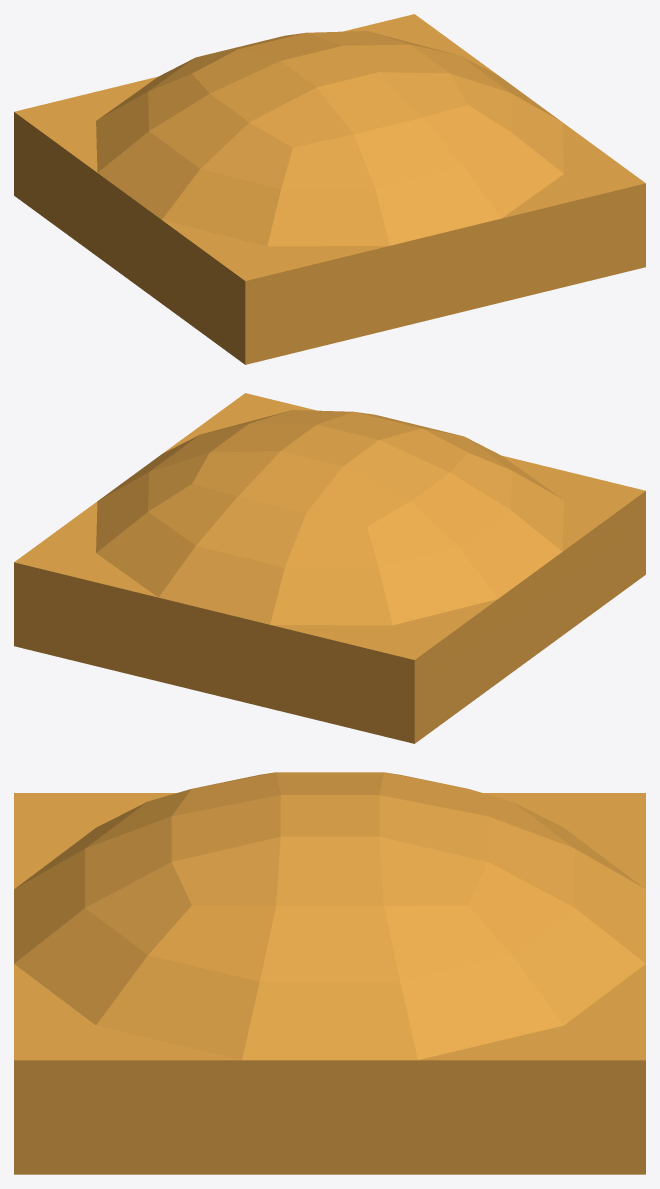
The model's file is tile-plain-hump.glb.
3 renders of one model, top to bottom at view 1: azimuth 30°, elevation 25°; view 2: azimuth 150°, elevation 25°; view 3: azimuth 270°, elevation 25°, orthographic. The views are drawn at different scales.
Parts seen in each view (by area): view 1: tile-plain-hump; view 2: tile-plain-hump; view 3: tile-plain-hump.
Boxes of the visible parts, left/top/right/bottom form: tile-plain-hump: left=14, top=14, right=645, bottom=364; tile-plain-hump: left=14, top=393, right=645, bottom=743; tile-plain-hump: left=14, top=772, right=645, bottom=1174.
Bounding box in the file's own units: 30 × 11.8 × 30.
